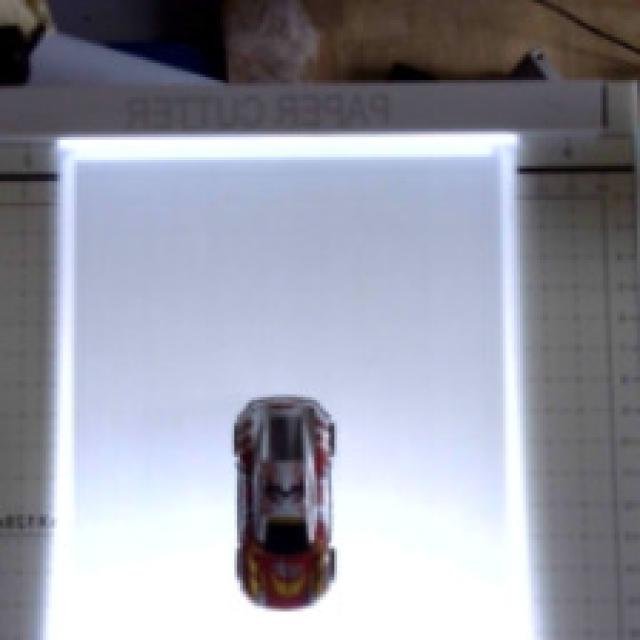Red Car: (195, 347, 384, 640)
